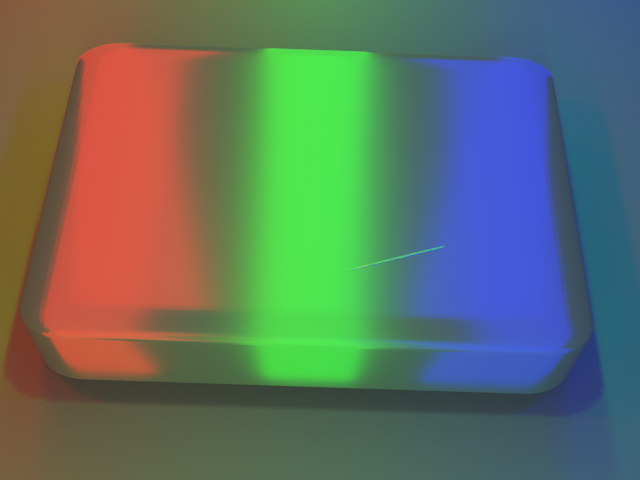scratch: (251, 170, 568, 361)
